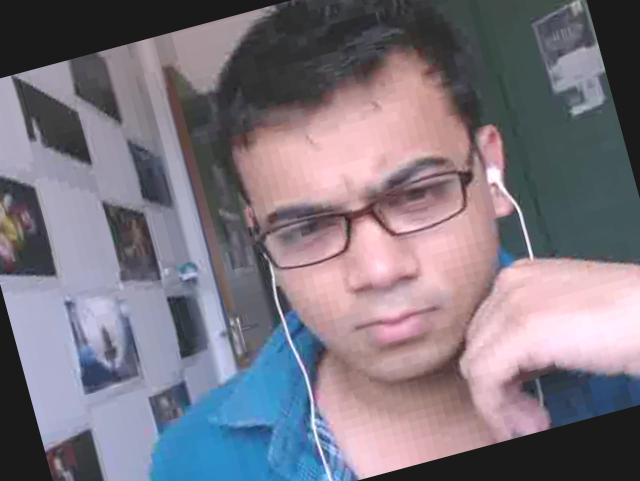bingung: (228, 71, 526, 408)
